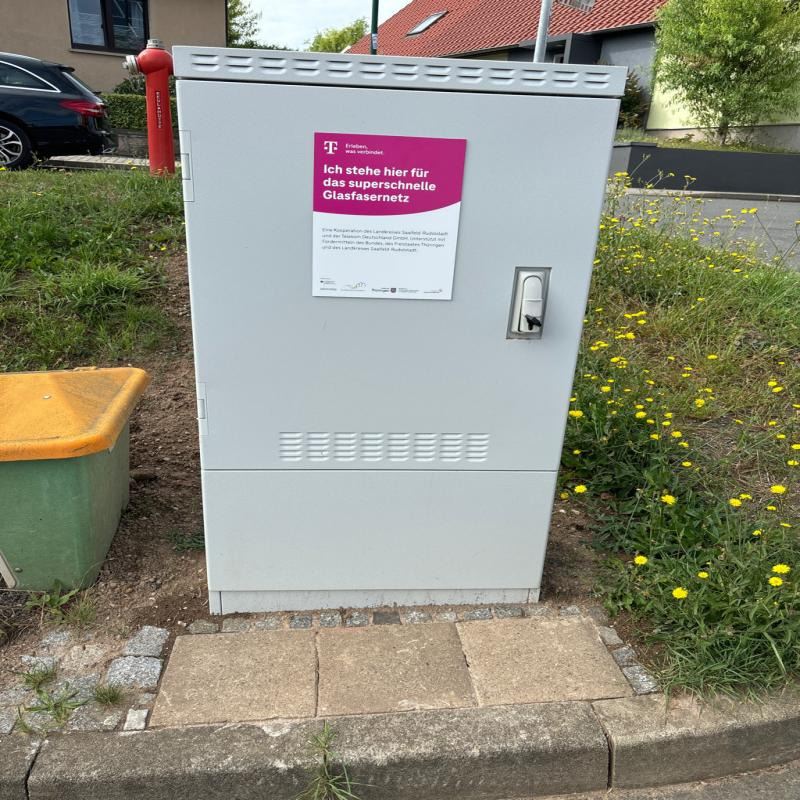NT-Gehause: (168, 50, 621, 598)
Steaker: (308, 129, 468, 302)
